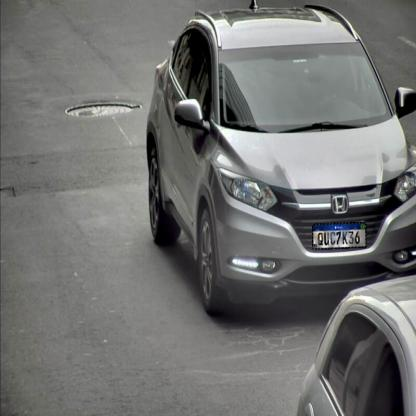PlacaM: (312, 222, 367, 249)
